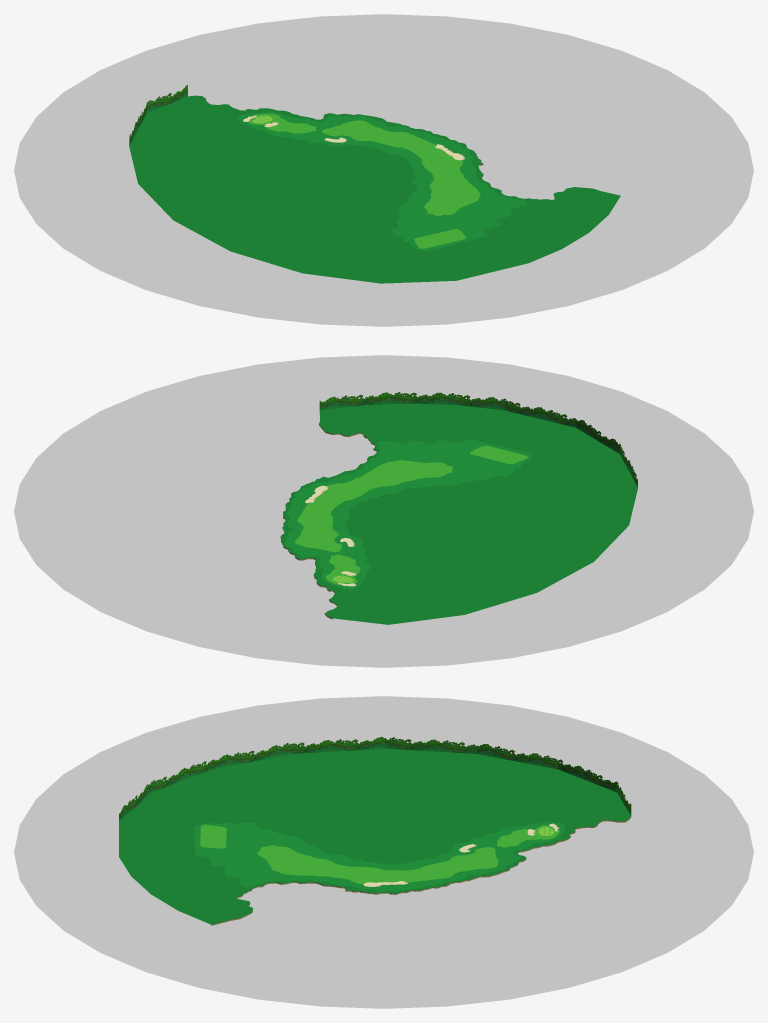
File: glf_course_fc18__glf_course_fc18.glb
The picture shows the model from 3 angles, top to bottom: view 1: azimuth 30°, elevation 25°; view 2: azimuth 150°, elevation 25°; view 3: azimuth 270°, elevation 25°; orthographic projection.
Parts seen in each view (by area): view 1: polygon8, polygon5, polygon7, polygon3, polygon2; view 2: polygon8, polygon5, polygon7, polygon3, polygon2; view 3: polygon8, polygon5, polygon7, polygon3, polygon2, polygon6.
Boxes of the visible parts, x1,y1,x2,y2 form: polygon8: [14, 14, 753, 326]; polygon5: [129, 95, 620, 283]; polygon7: [237, 111, 526, 251]; polygon3: [248, 113, 480, 248]; polygon2: [129, 85, 187, 145]; polygon8: [14, 355, 753, 667]; polygon5: [280, 403, 637, 624]; polygon7: [285, 439, 531, 589]; polygon3: [295, 445, 528, 584]; polygon2: [319, 392, 637, 487]; polygon8: [14, 696, 753, 1008]; polygon5: [119, 748, 630, 924]; polygon7: [194, 822, 565, 891]; polygon3: [200, 824, 559, 884]; polygon2: [119, 737, 631, 821]; polygon6: [211, 816, 631, 925].
Size of the model in its own units: 10973 by 240 by 10973.
Materials: 9 (8 with a texture image).
